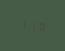one: (28, 19, 36, 31), (18, 19, 26, 30)
zero: (37, 20, 45, 31)
